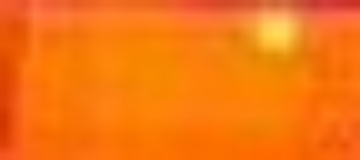Hotspot: (252, 7, 303, 52)
